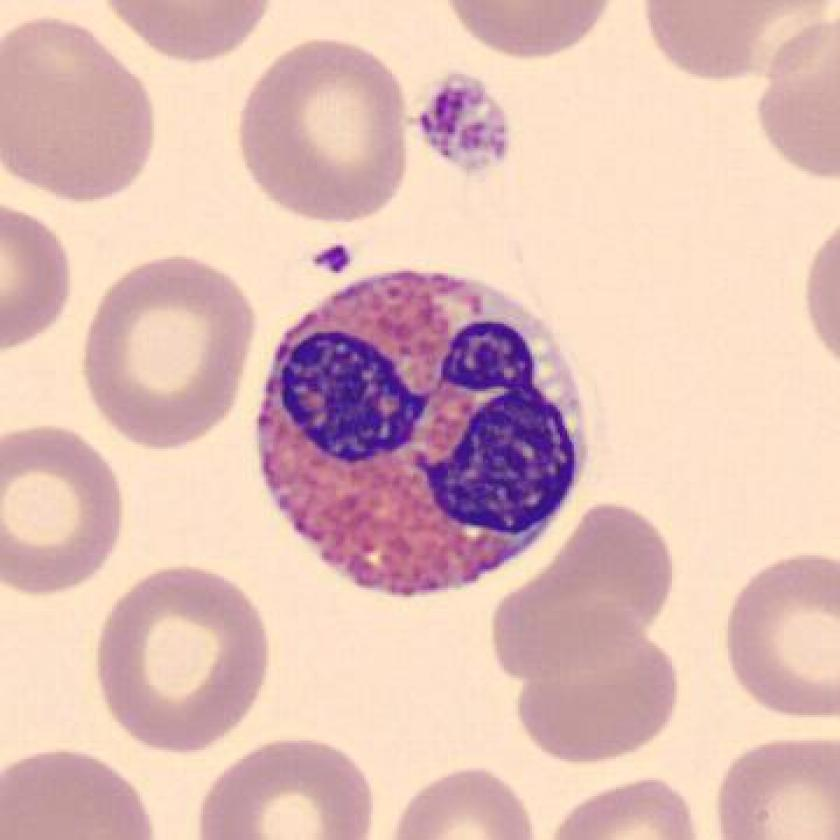eosinophil: (248, 255, 603, 612)
